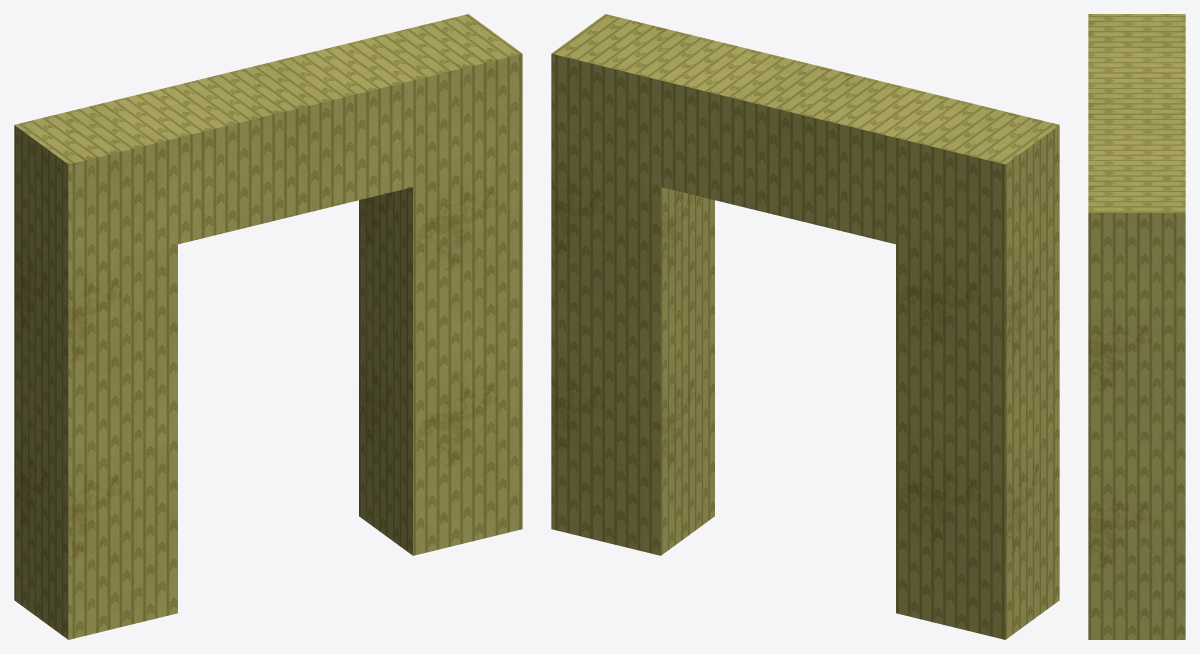
The model's file is SM_L0_Doorway.fbx.
The picture shows the model from 3 angles, left to right: view 1: azimuth 30°, elevation 25°; view 2: azimuth 150°, elevation 25°; view 3: azimuth 270°, elevation 25°; orthographic projection. The views are drawn at different scales.
Visible parts, largest first — view 1: SM_L0_Doorway; view 2: SM_L0_Doorway; view 3: SM_L0_Doorway.
Part boxes in pixels (bbox=[...]): SM_L0_Doorway: bbox=[14, 14, 522, 639]; SM_L0_Doorway: bbox=[551, 14, 1059, 639]; SM_L0_Doorway: bbox=[1088, 14, 1185, 639].
Size of what is drawn, in the model's own units: 2.9 by 2.9 by 0.6.
